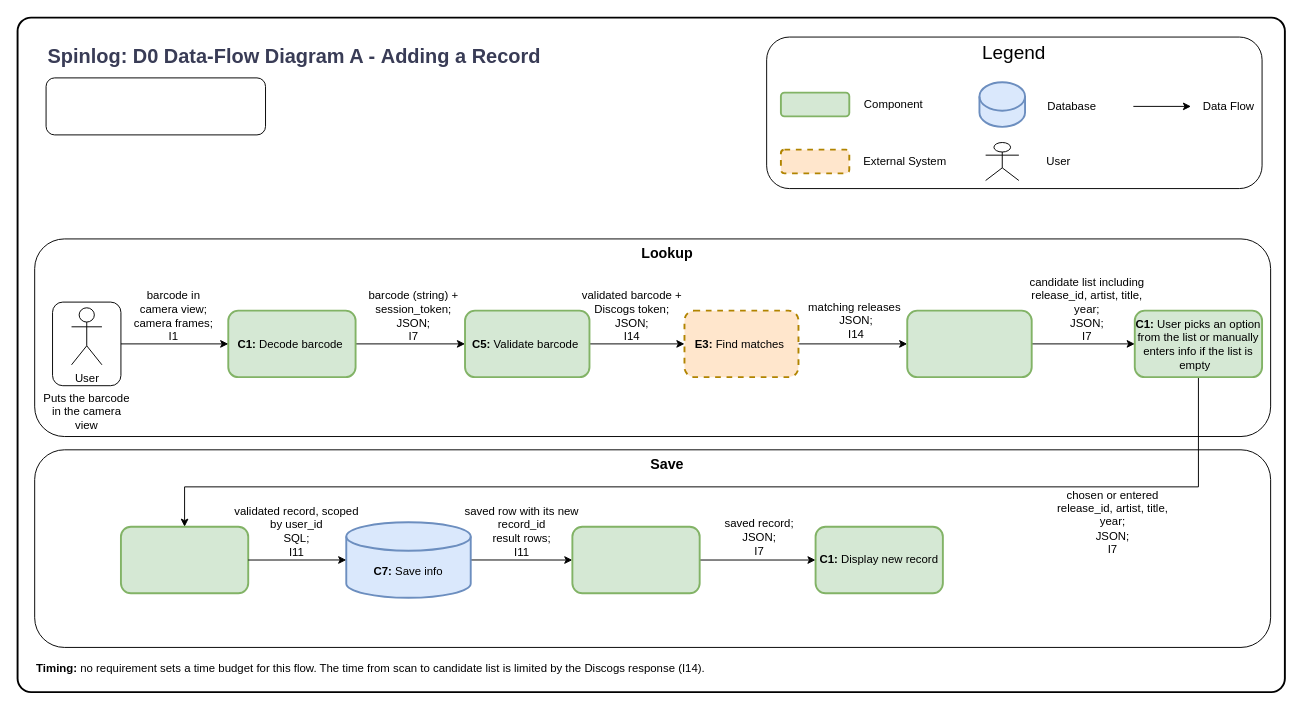
This 1302x709 diagram has some shape labels left out. Here are the shapes that lost their labels. From the top down, the centre of each, then its label:
At point (155, 106): "Goal: Catalog your vinyl records, track their value, and log every play".
At point (969, 343): "C5: Build candidate list (format the data from discogs)".
At point (184, 559): "C5: Validate record, run SQL query".
At point (635, 559): "C5: Return result".
